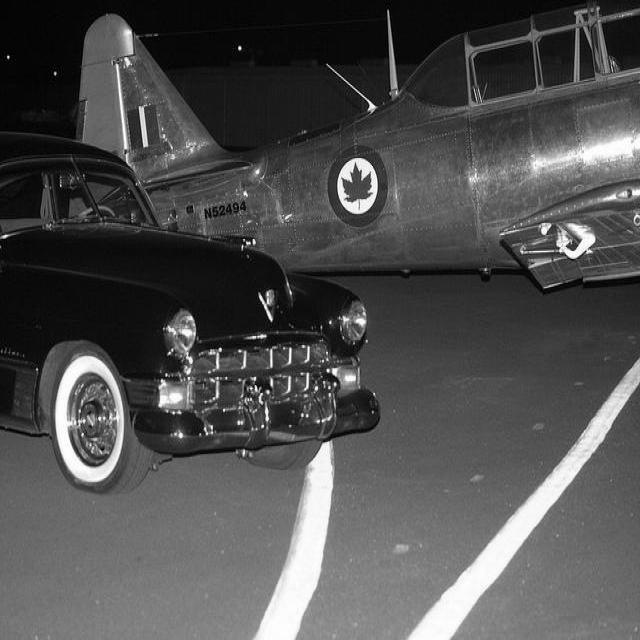vehicle: (2, 136, 386, 496)
